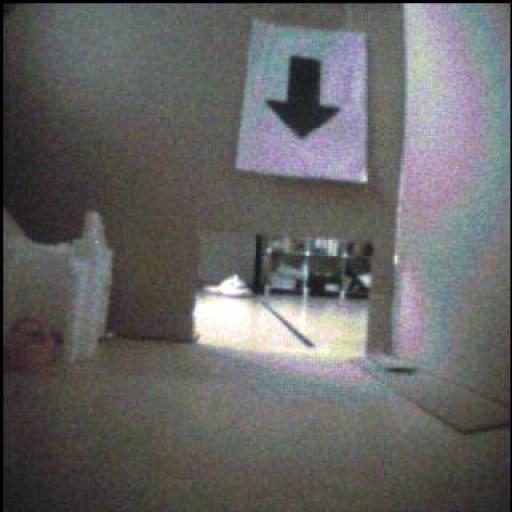arrow: (268, 57, 340, 139)
